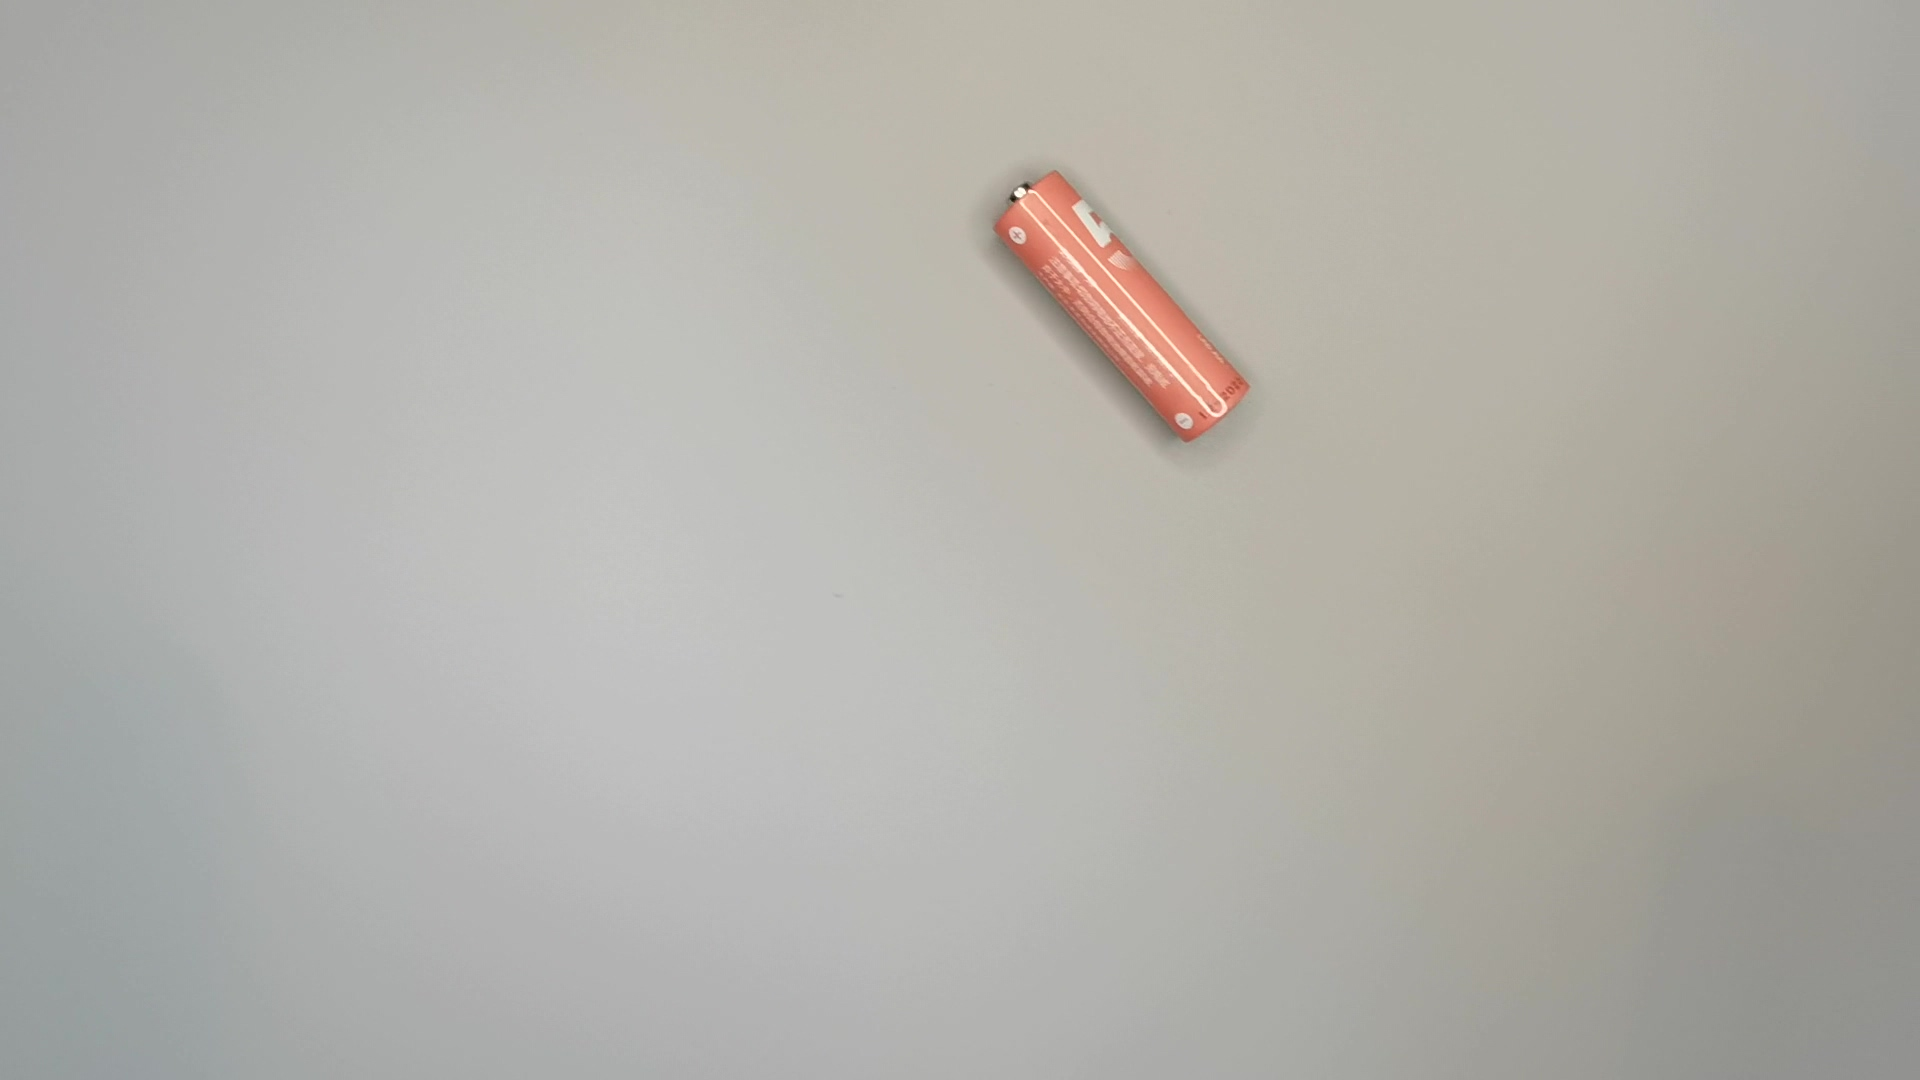battery: (981, 161, 1265, 446)
